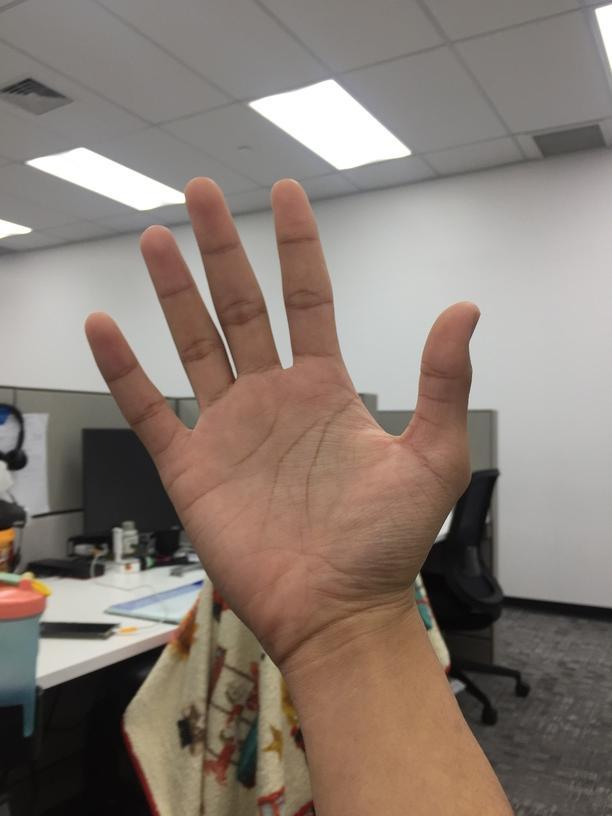hand: (83, 173, 483, 638)
